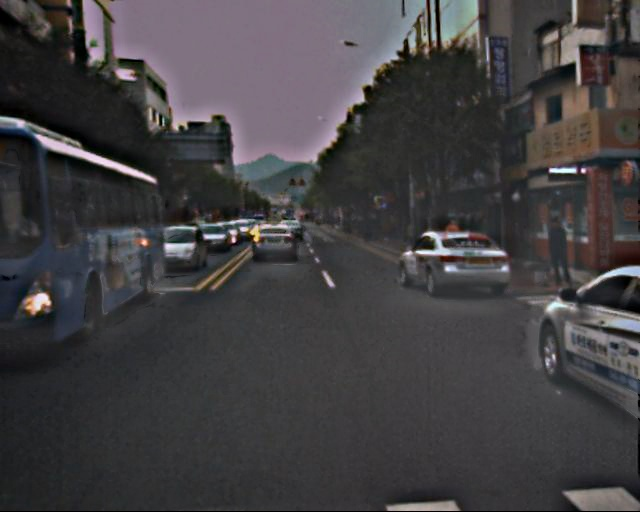person: (542, 213, 573, 285)
